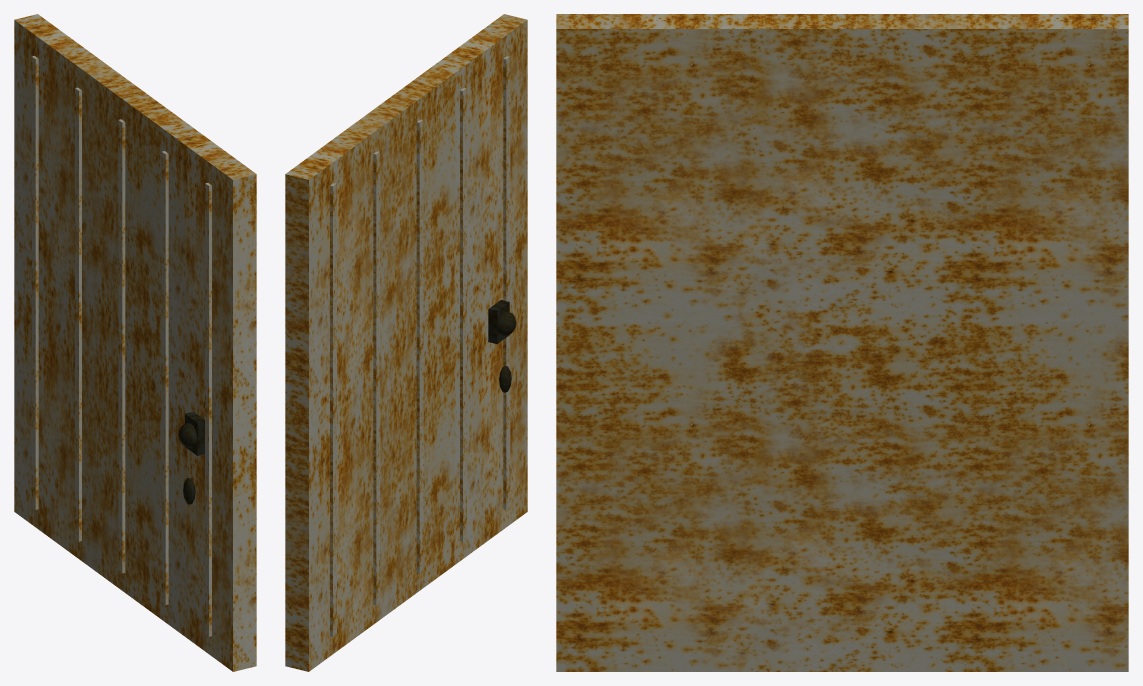
The model's file is door.glb.
3 renders of one model, left to right at view 1: azimuth 30°, elevation 25°; view 2: azimuth 150°, elevation 25°; view 3: azimuth 270°, elevation 25°, orthographic. The views are drawn at different scales.
Size of the model in its own units: 0.22 by 2.38 by 1.92.
Materials: 2 (2 with a texture image).
